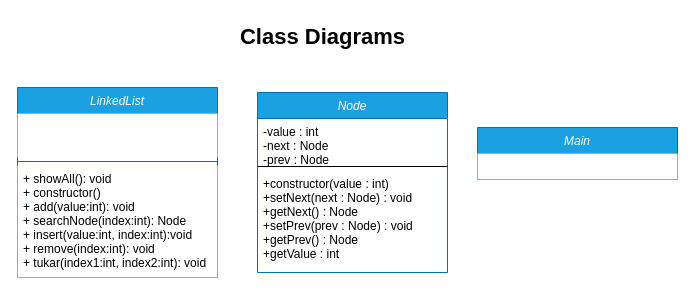
Image size: 695x297. Some labels were removed from this diagram. The centre of each missing label's shape, as x and y in pixels:
+ main(): static void: pixel 577 166
- first: Node - last : Node - length: int: pixel 117 135
